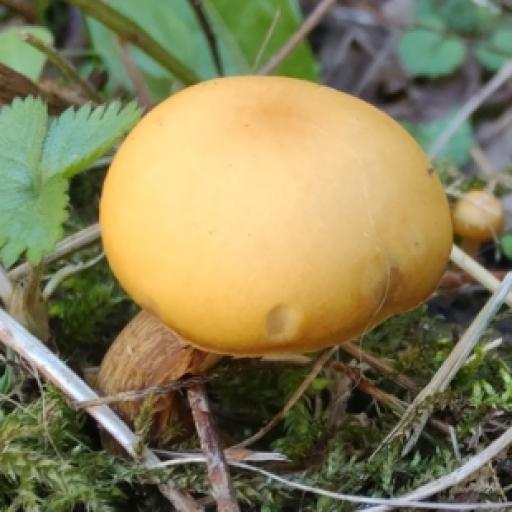mushroom: (103, 68, 451, 396)
